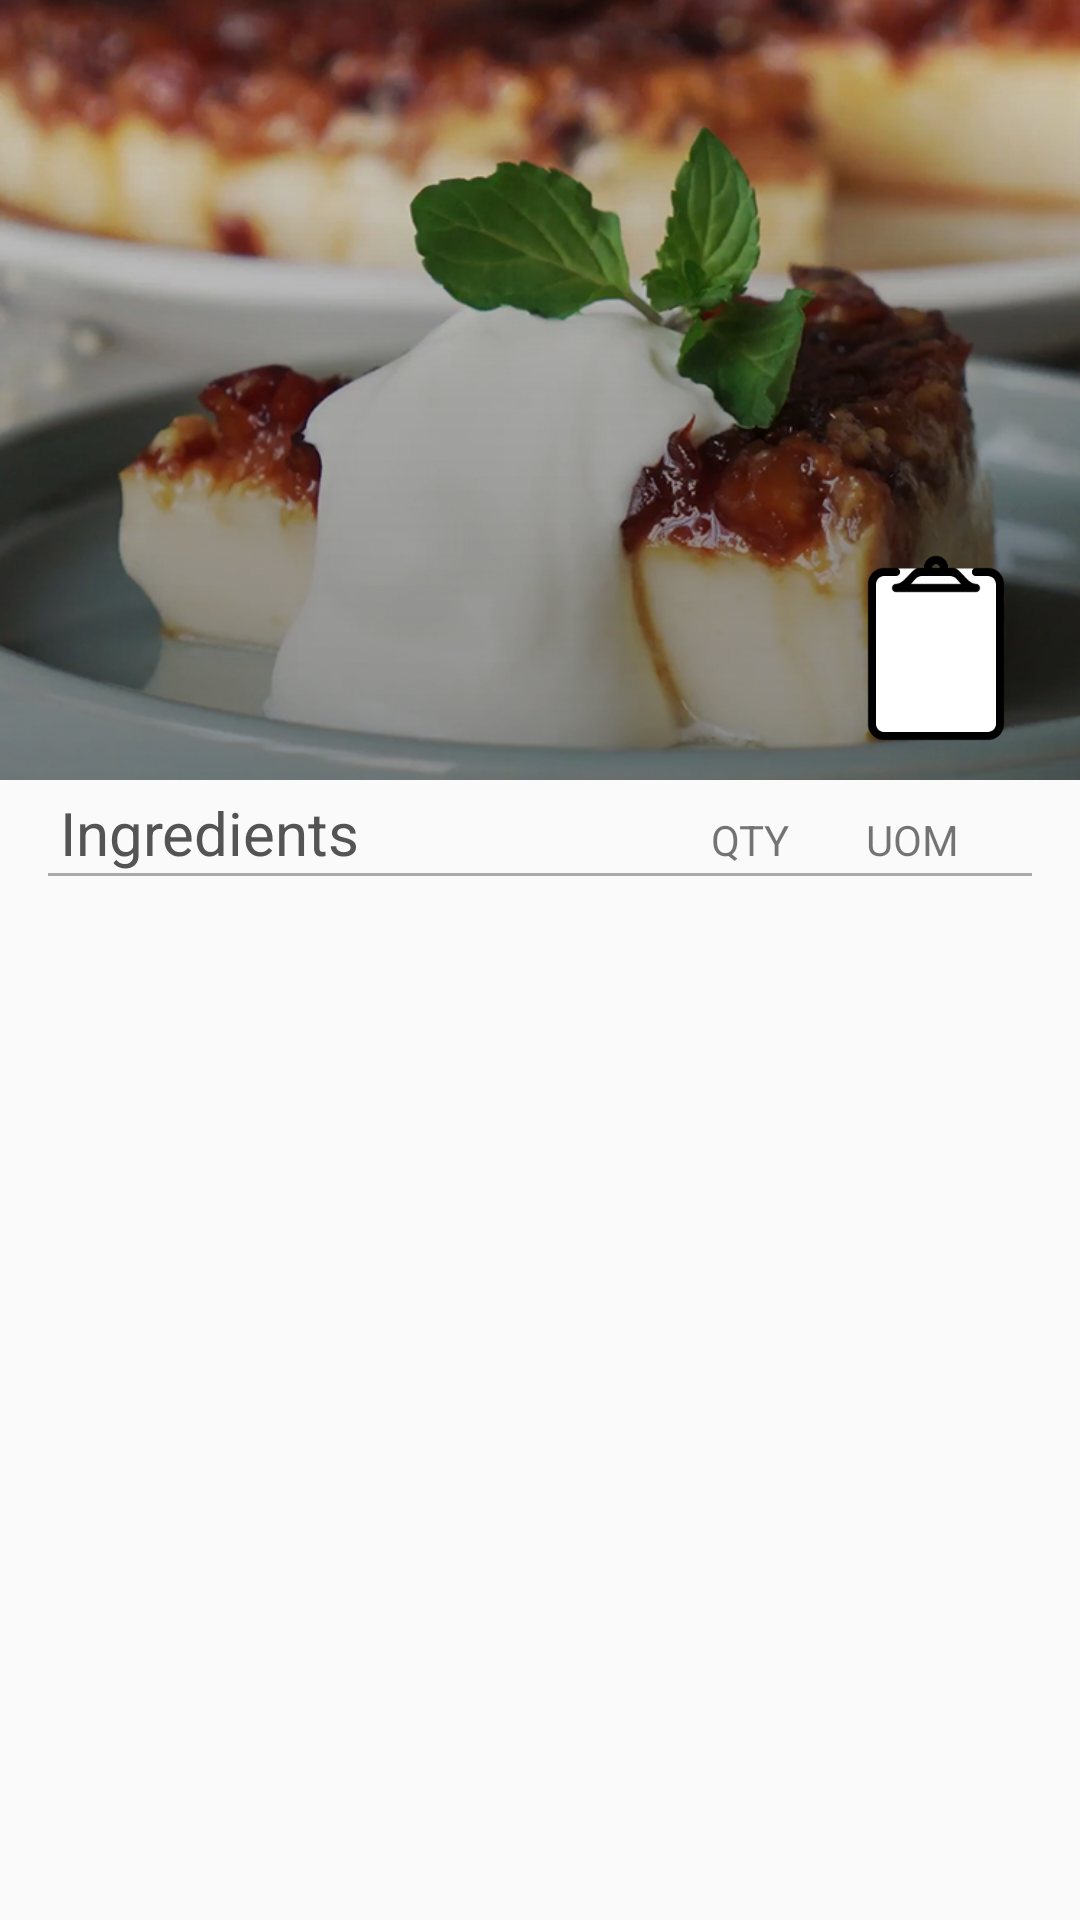

Screen size 1080*1920. Icon name, then its center in pixels as (x,y):
check list unmarked: (936,648)
